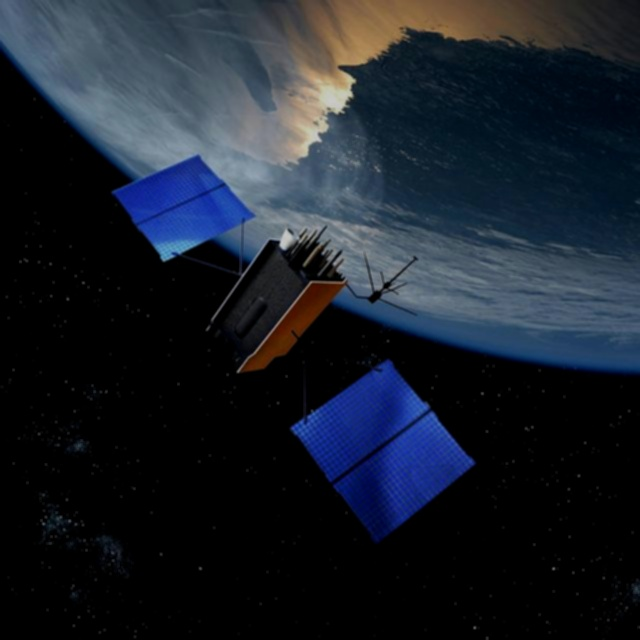medium_debris: (110, 120, 484, 569)
